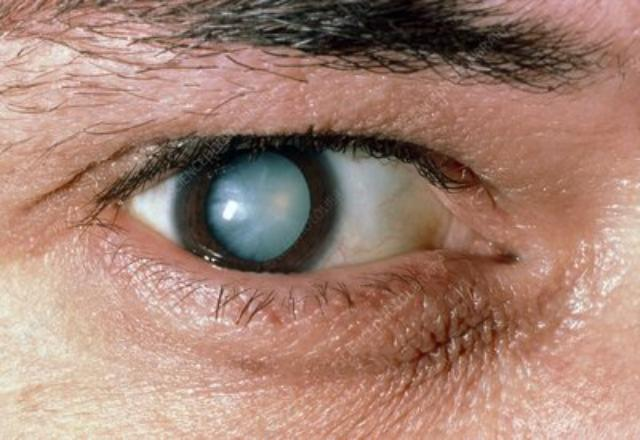eye: (172, 139, 344, 279)
